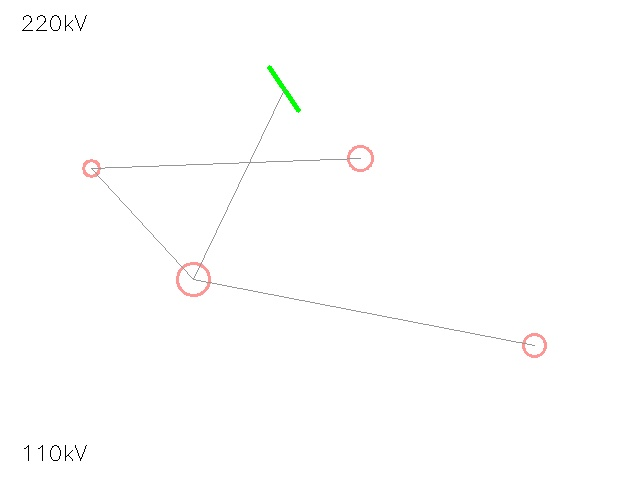busbar: (252, 57, 316, 121)
current_transformer: (74, 151, 108, 185)
disconnect_switch: (512, 323, 556, 367)
fuse: (335, 133, 385, 183)
surge_arrester: (161, 247, 225, 311)
